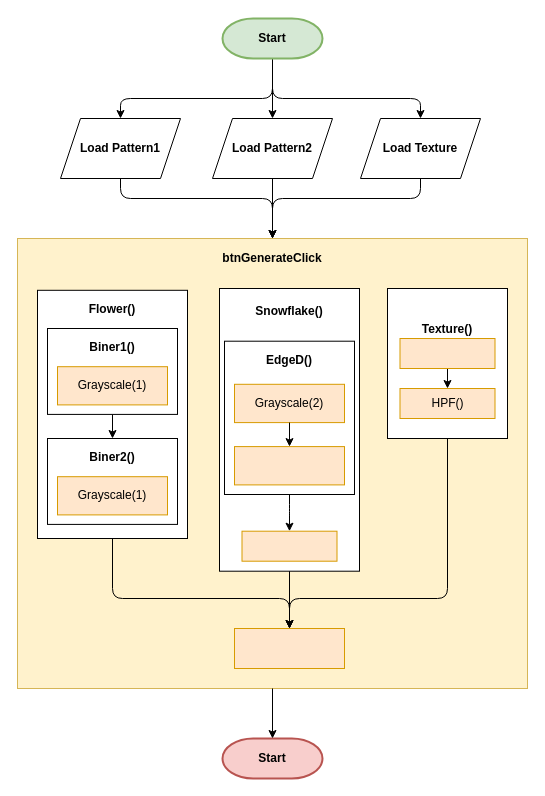
Some shapes in this 545 by 796 pixel diagram are drawn without their labels. The shapes that lost their labels are listed below. From the top down, each one's centre as x and y in pixels, then its label:
[447,353]: LPF()
[289,465]: Invers(1)
[289,545]: Invers(2)
[289,648]: Aritmethic()
